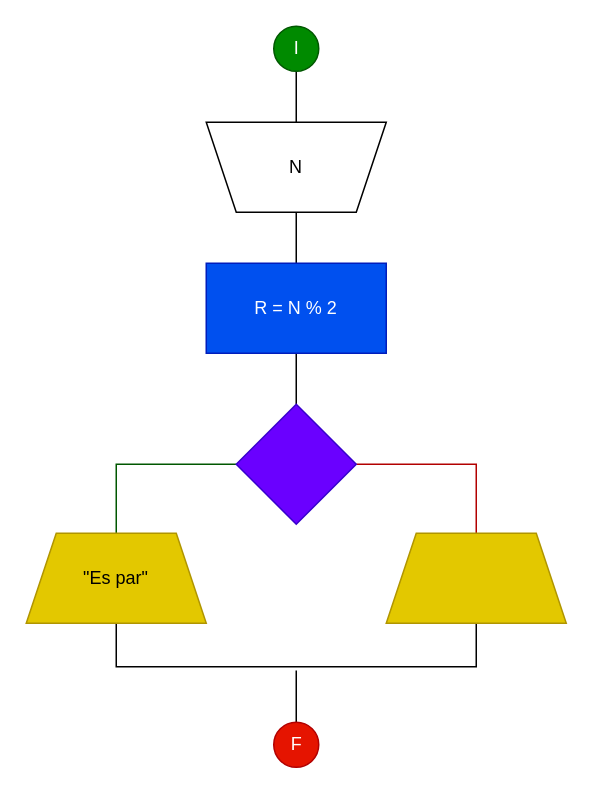
Some shapes in this 593 by 794 pixel diagram are drawn without their labels. The centre of each missing label's shape, as x and y in pixels:
"Es impar": (x=475, y=577)
R == 0: (x=295, y=463)
